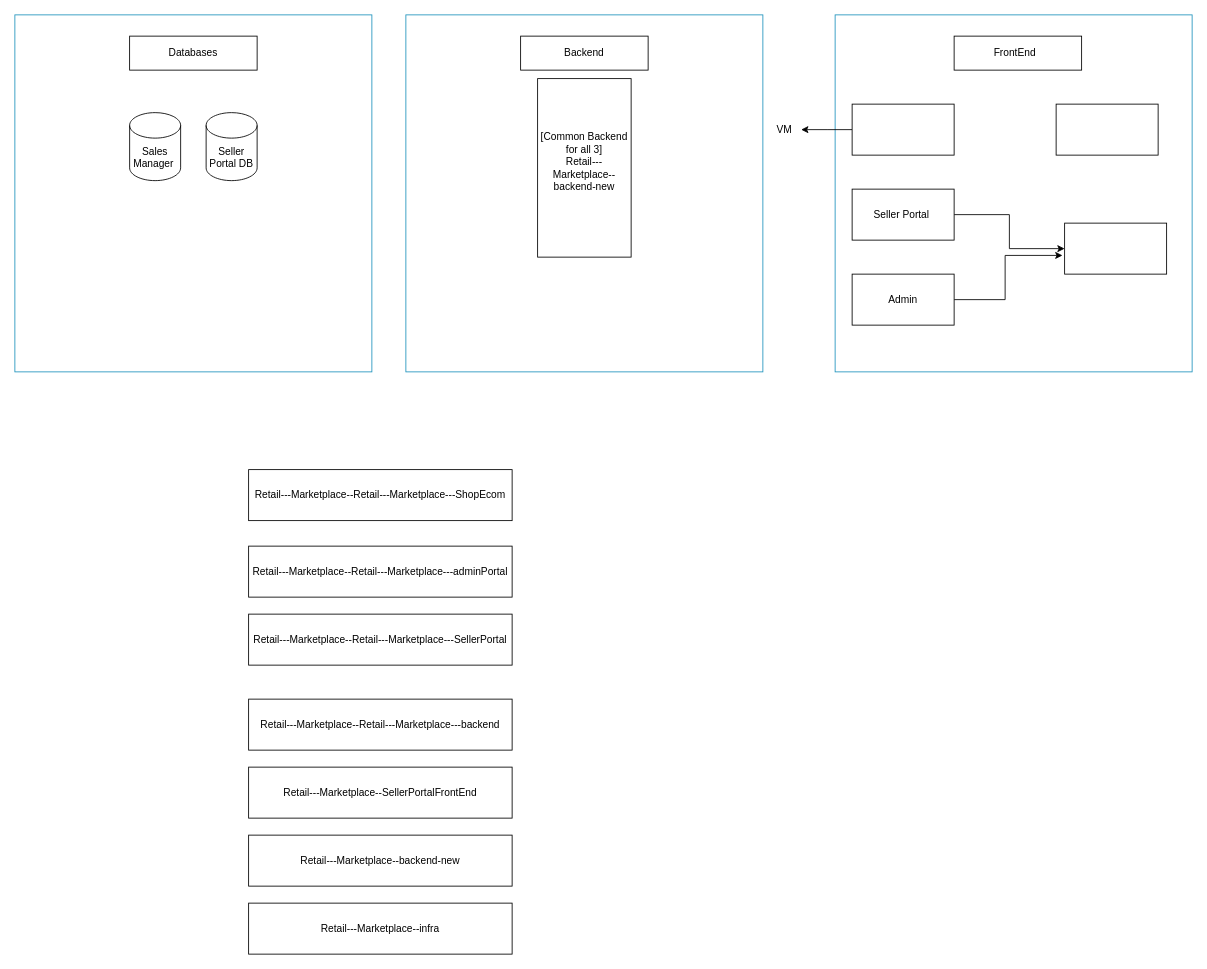
This 1207x969 diagram has some shape labels left out. The shapes that lost their labels are listed below. From the top down, each one's centre as x and y in pixels, then its label:
At (x=902, y=129): "Ecommerce".
At (x=1106, y=129): "Frontend exists in the local system".
At (x=1115, y=248): "Shopizer Admin".
